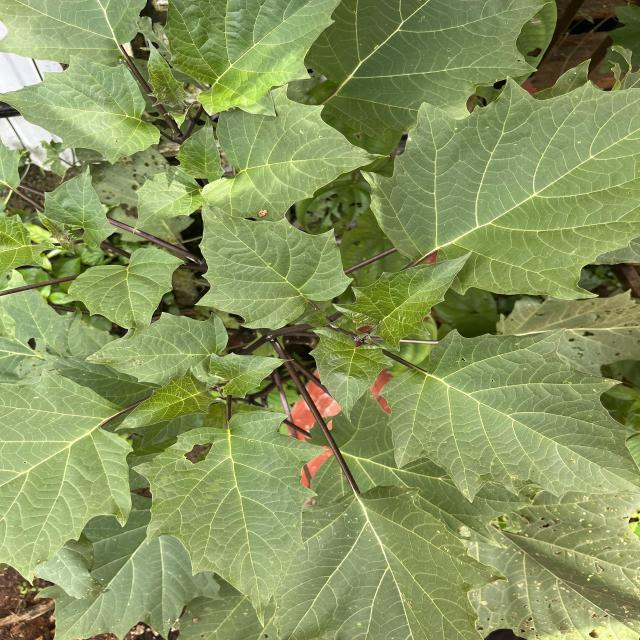Datura metal linn: (355, 70, 640, 304), (376, 324, 640, 506), (128, 408, 334, 632), (201, 81, 392, 220), (192, 184, 357, 331), (0, 53, 164, 169), (332, 245, 477, 354), (58, 244, 188, 342), (306, 322, 395, 426), (111, 363, 223, 434), (40, 162, 120, 252), (132, 164, 204, 233), (208, 348, 296, 402), (144, 32, 197, 112), (173, 114, 230, 182)
